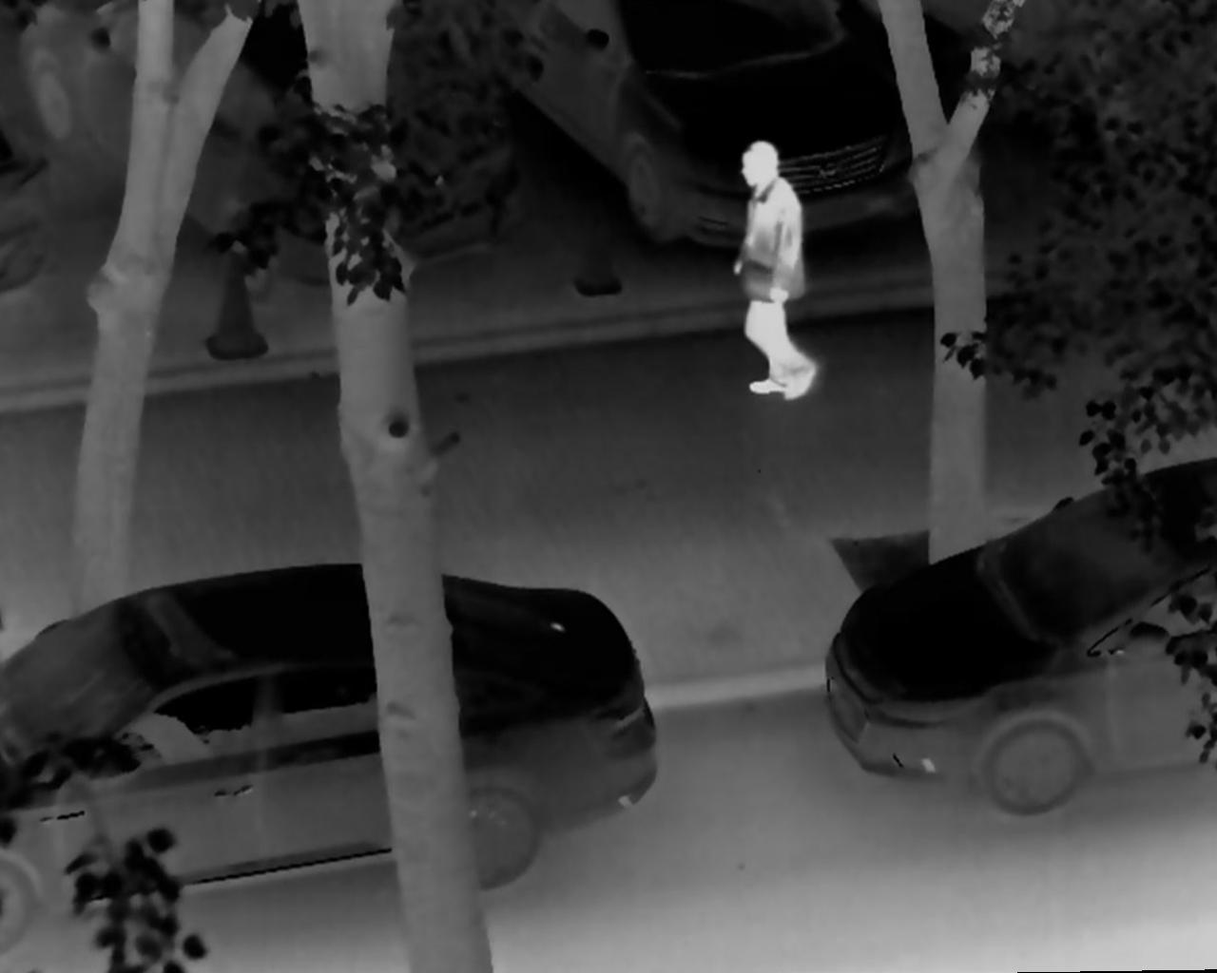person: (724, 137, 820, 403)
